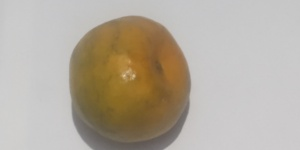BAD: (68, 15, 192, 145)
